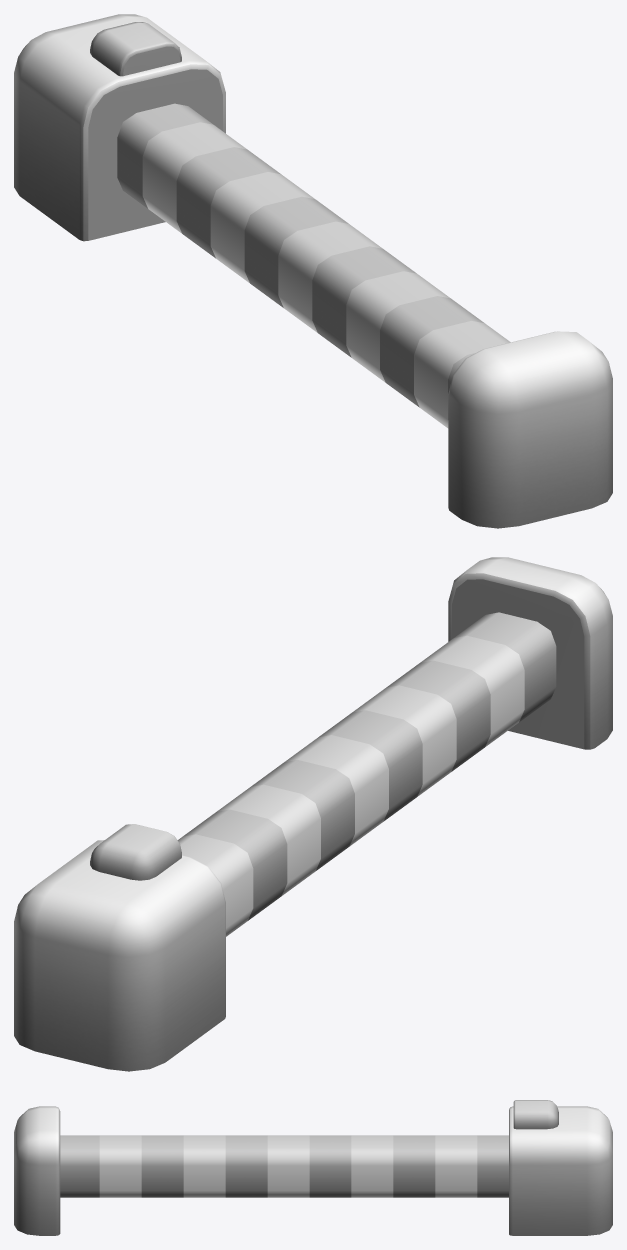
File: Barier.fbx
3 renders of one model, top to bottom at view 1: azimuth 30°, elevation 25°; view 2: azimuth 150°, elevation 25°; view 3: azimuth 270°, elevation 25°, orthographic. The views are drawn at different scales.
Parts seen in each view (by area): view 1: pCube3, pCube4, pCube2, pCube5; view 2: pCube3, pCube2, pCube4, pCube5; view 3: pCube3, pCube2, pCube4, pCube5.
Boxes of the visible parts, box(x1,y1,x2,y2) form: pCube3: box(117, 103, 510, 428); pCube4: box(448, 331, 612, 528); pCube2: box(14, 14, 225, 241); pCube5: box(90, 22, 181, 76); pCube3: box(177, 612, 556, 936); pCube2: box(14, 840, 225, 1071); pCube4: box(448, 557, 612, 749); pCube5: box(90, 824, 181, 880); pCube3: box(60, 1135, 508, 1197); pCube2: box(509, 1106, 612, 1235); pCube4: box(14, 1106, 60, 1235); pCube5: box(513, 1100, 558, 1129).
Bounding box in the file's own units: 198 × 227 × 1138.
2 materials, 1 textured.
